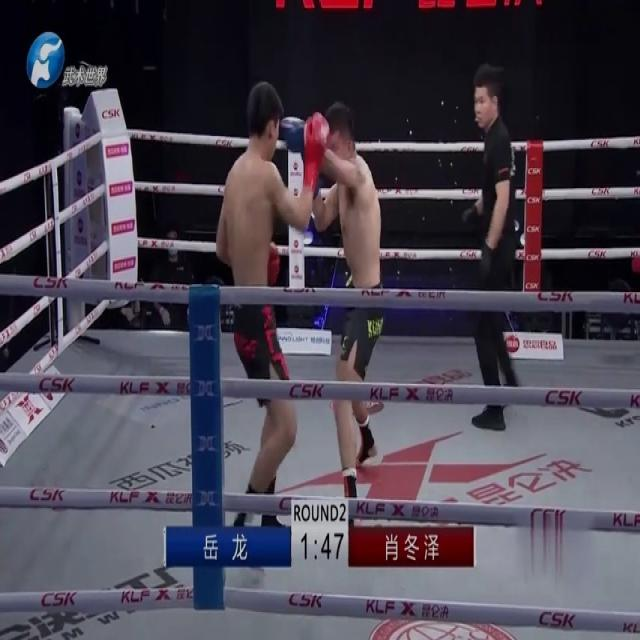fight: (217, 73, 391, 535)
non-fight: (457, 59, 531, 433)
